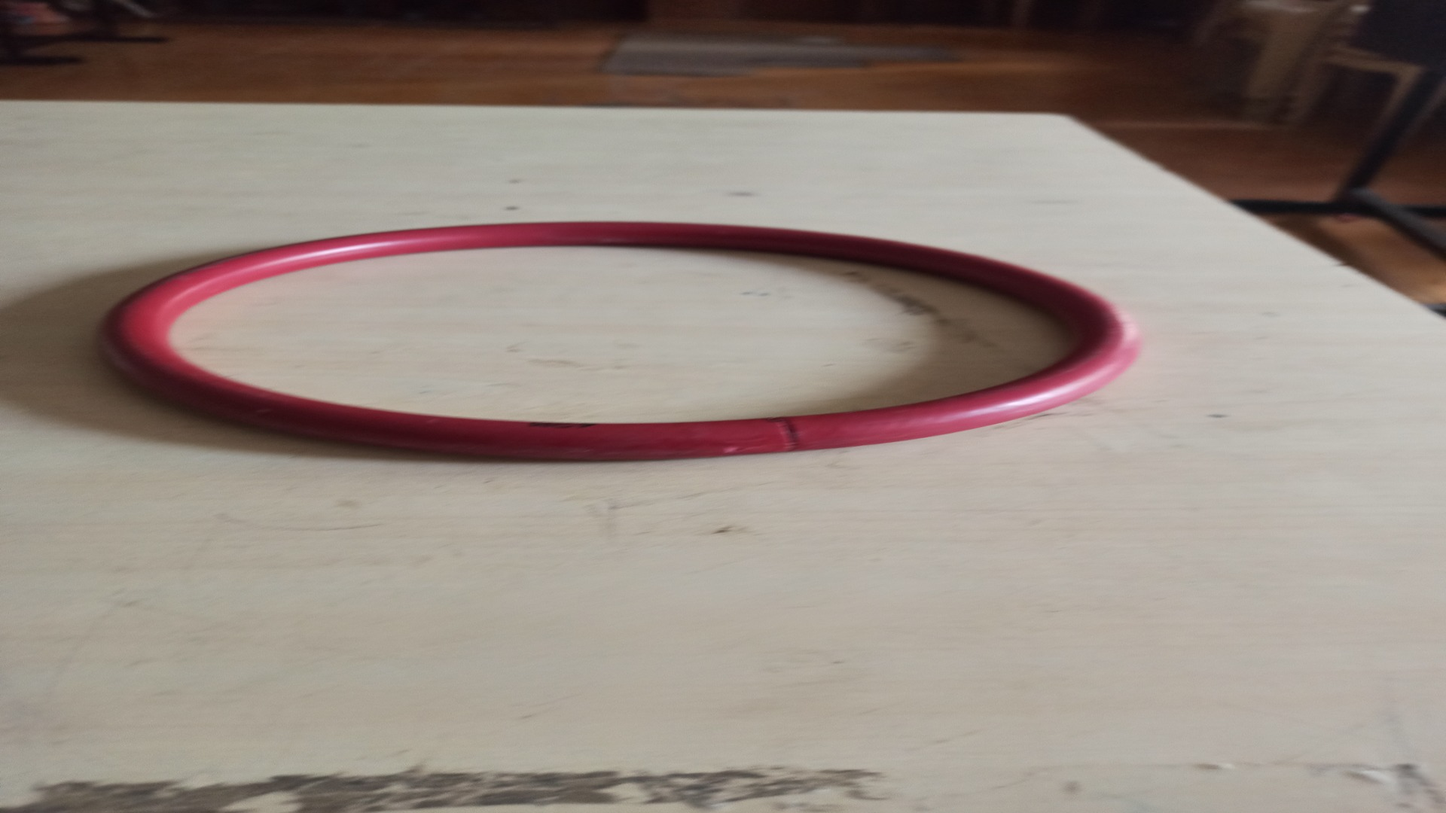Red ring: (106, 218, 1139, 460)
